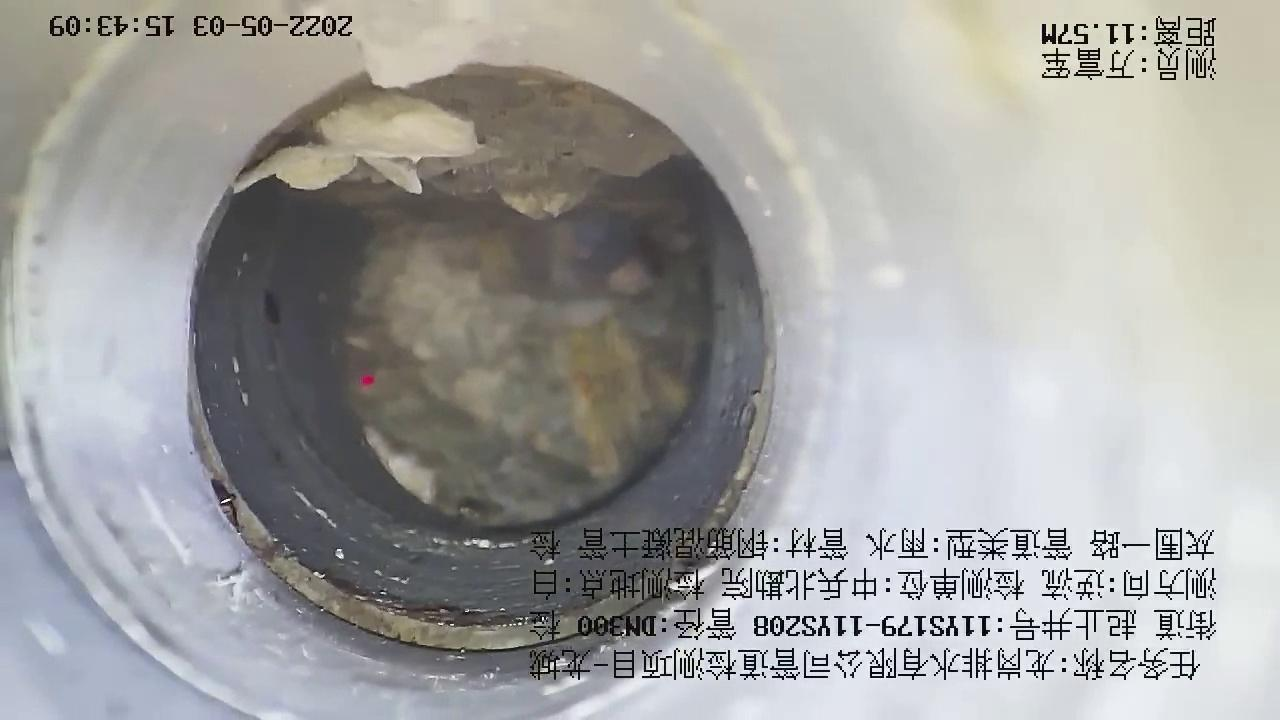CJ: (240, 69, 688, 228)
CKTJ: (177, 124, 783, 659)
